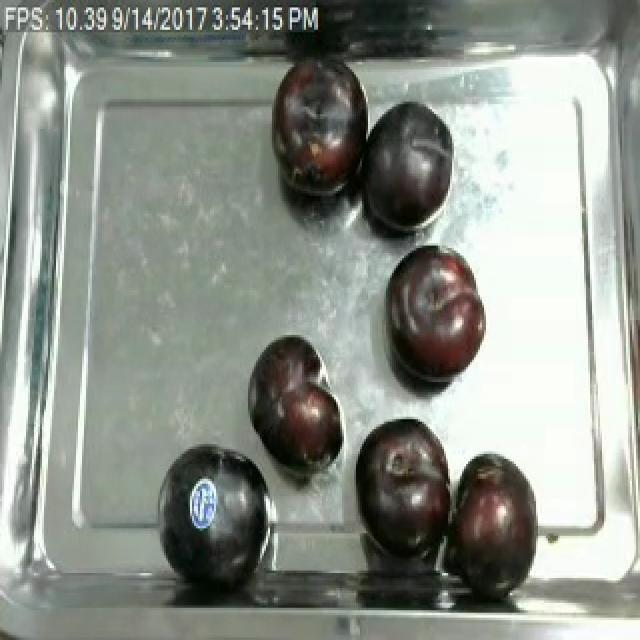Fruit: (146, 434, 280, 590), (240, 327, 350, 479), (266, 54, 374, 206), (384, 238, 490, 392), (350, 409, 458, 558), (446, 446, 546, 600), (360, 94, 458, 233)
